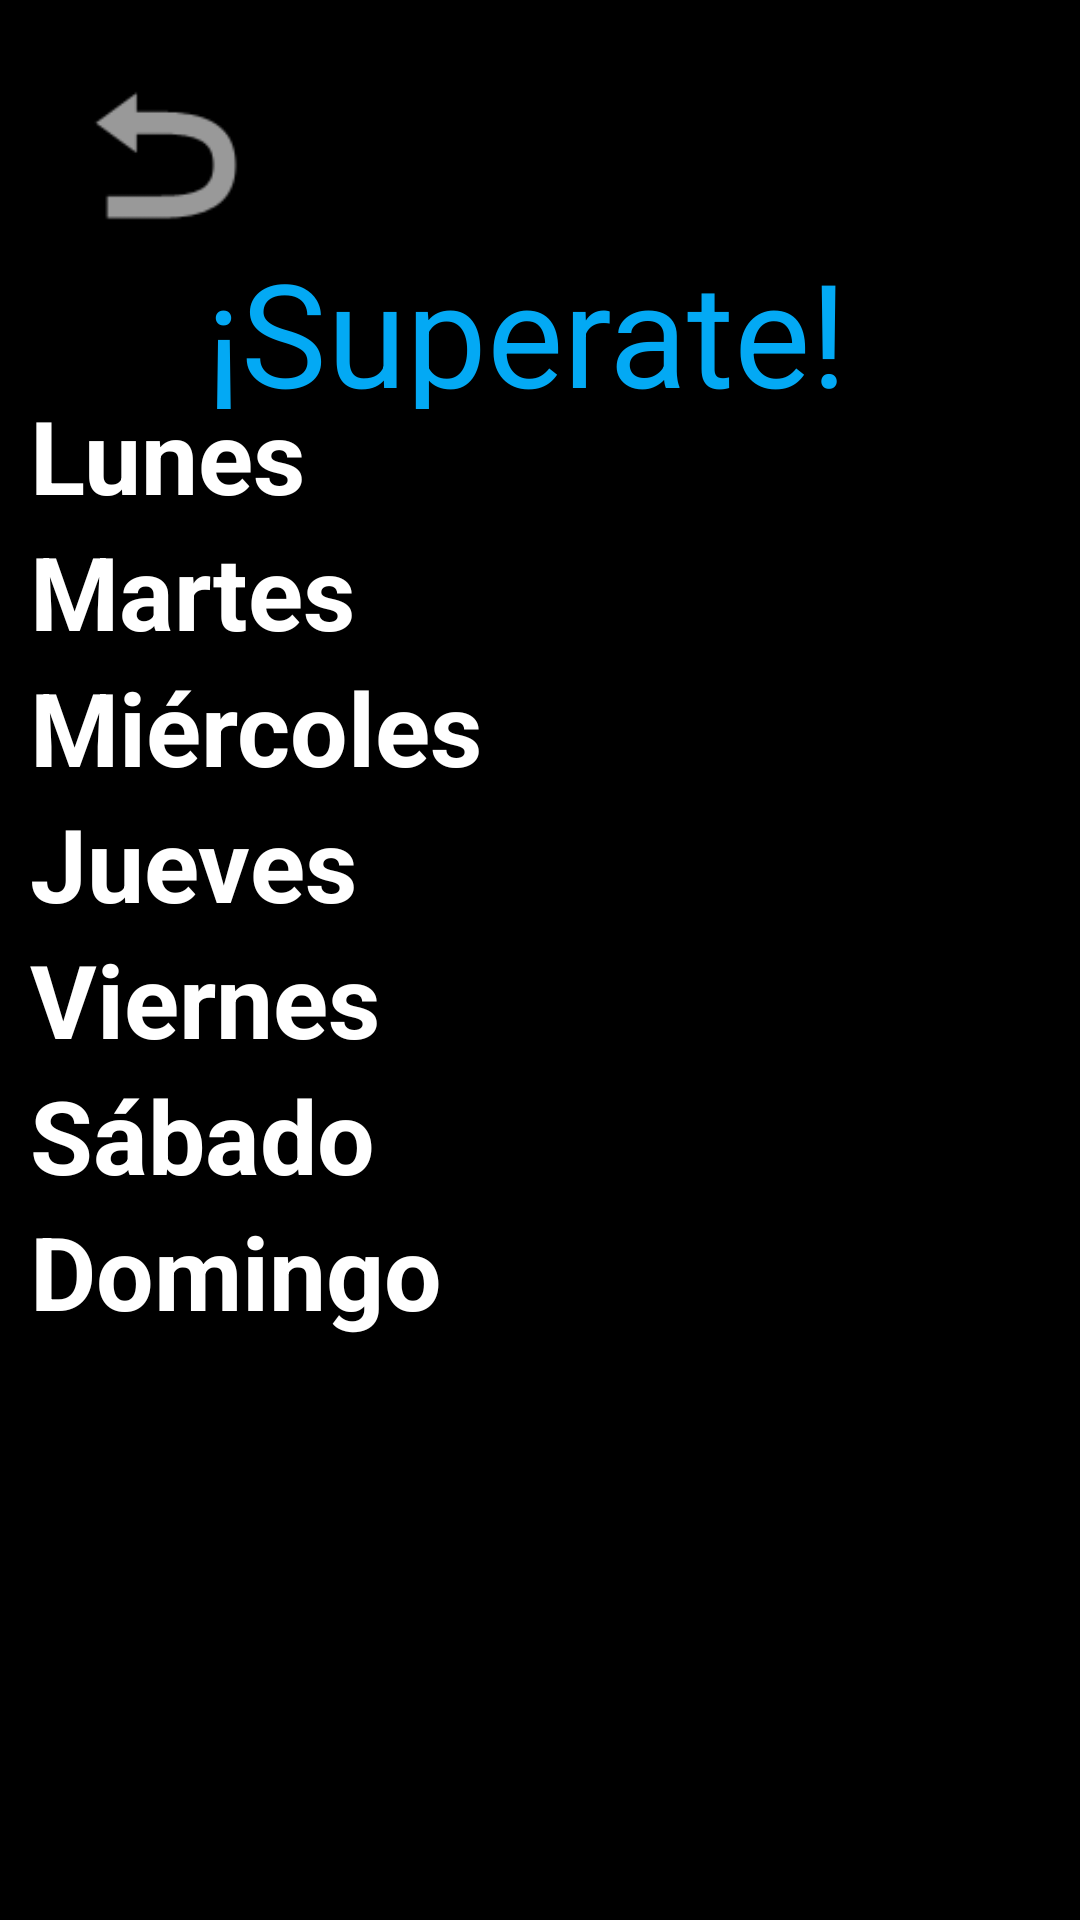

Named icons in this screenshot (1080 x 1920) and their bounding boxes, (x1, y1, x2, y2):
revert: (96, 93, 237, 219)
